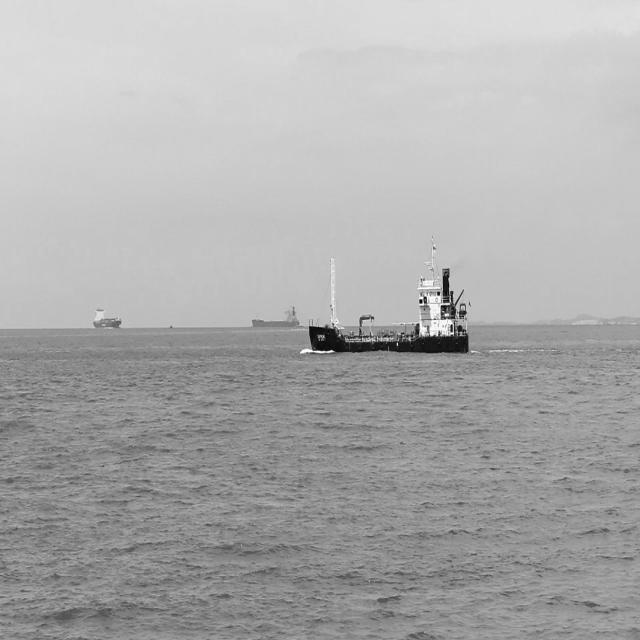ship: (307, 230, 473, 354), (252, 300, 302, 330), (91, 301, 122, 329), (329, 312, 343, 330)
